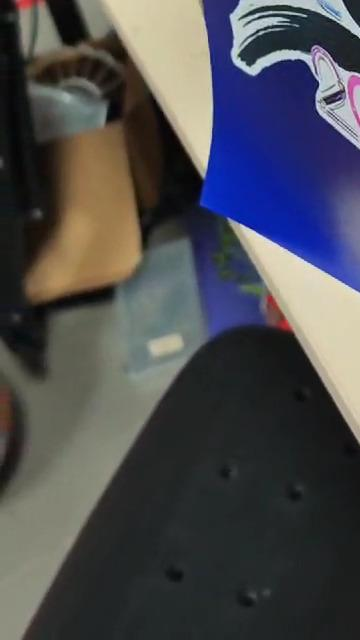B_R1: (205, 0, 360, 327)
